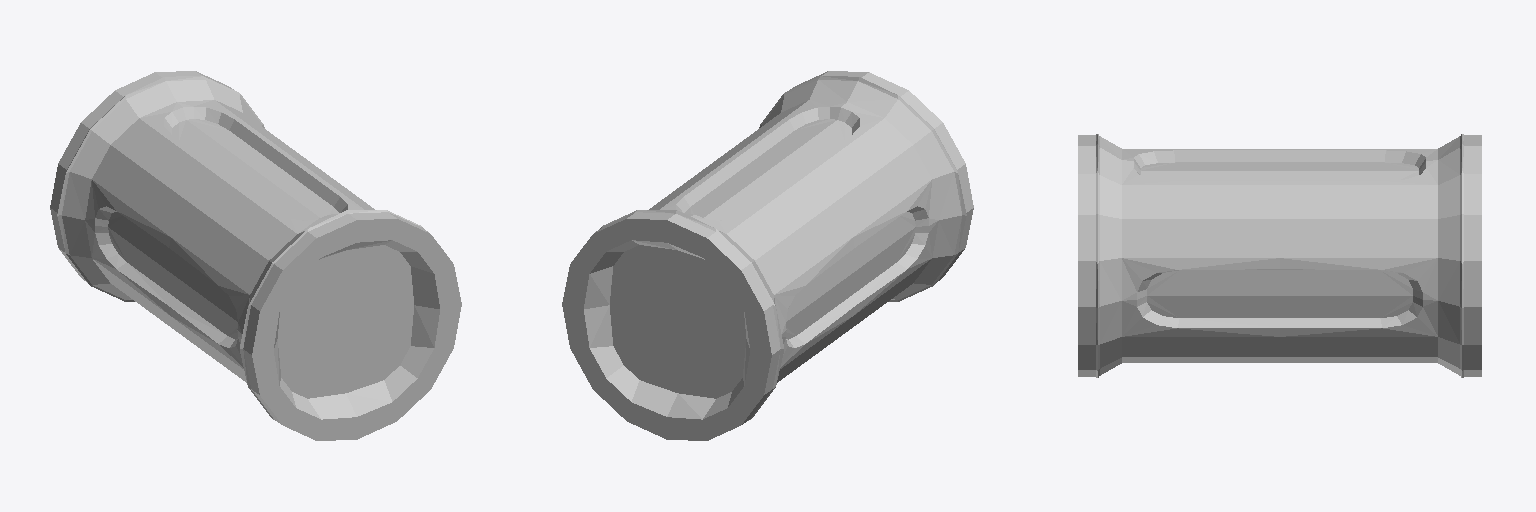
File: Pipe.obj
3 renders of one model, left to right at view 1: azimuth 30°, elevation 25°; view 2: azimuth 150°, elevation 25°; view 3: azimuth 270°, elevation 25°, orthographic.
Parts seen in each view (by area): view 1: Cylinder; view 2: Cylinder; view 3: Cylinder.
Boxes of the visible parts, x1=… form: Cylinder: x1=50, y1=71, x2=461, y2=440; Cylinder: x1=562, y1=71, x2=973, y2=440; Cylinder: x1=1078, y1=134, x2=1481, y2=377.
Bounding box in the file's own units: 0.6156 × 0.6156 × 1.